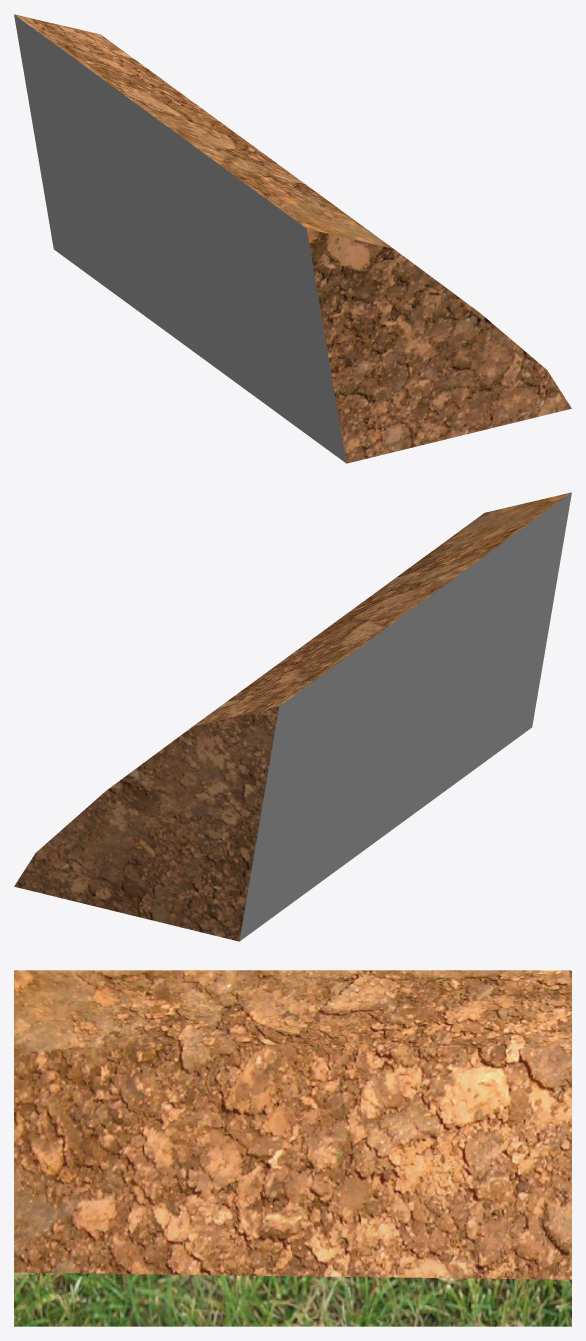
Rendered from slope1.fbx.
The picture shows the model from 3 angles, top to bottom: view 1: azimuth 30°, elevation 25°; view 2: azimuth 150°, elevation 25°; view 3: azimuth 270°, elevation 25°; orthographic projection. The views are drawn at different scales.
Visible parts, largest first — view 1: pCube1; view 2: pCube1; view 3: pCube1.
Boxes of the visible parts, left/top/right/bottom form: pCube1: left=14, top=14, right=571, bottom=463; pCube1: left=14, top=492, right=571, bottom=941; pCube1: left=14, top=970, right=571, bottom=1326.
Size of the model in its own units: 6.65 by 5.87 by 12.72.
Materials: 3 (2 with a texture image).
